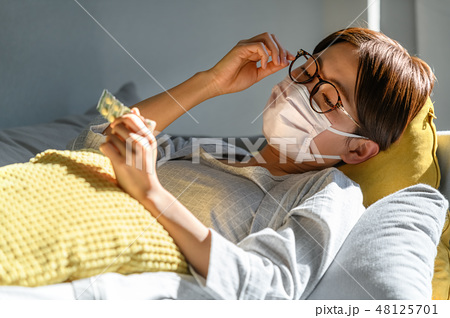mask: (234, 81, 328, 158)
